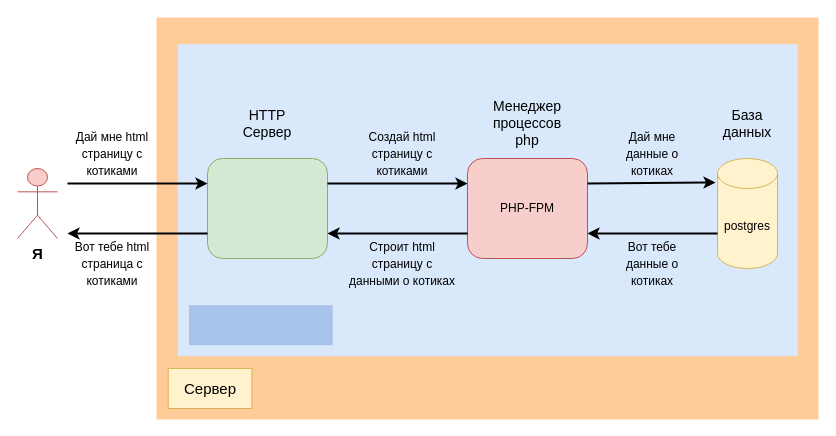
Some shapes in this 836 by 436 pixel diagram are drawn without their labels. Each missing label, with the box of its shape:
NGINX: (206, 158, 328, 258)
Операционная система: (188, 305, 332, 345)
